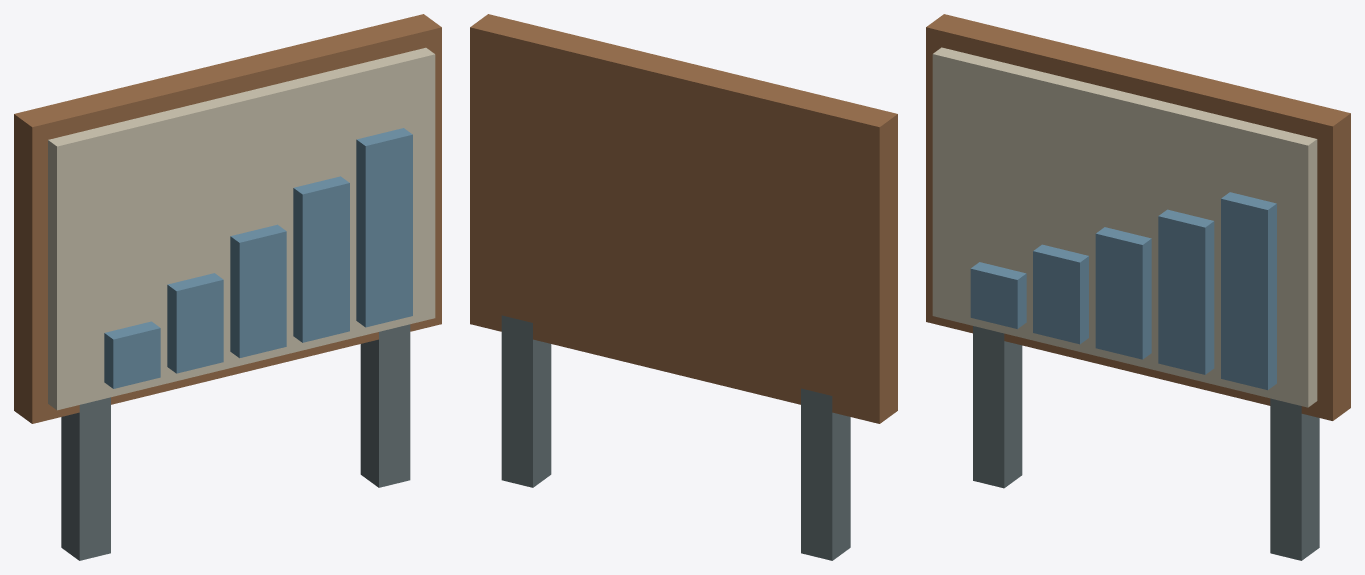
The picture shows the model from 3 angles, left to right: view 1: azimuth 30°, elevation 25°; view 2: azimuth 150°, elevation 25°; view 3: azimuth 330°, elevation 25°; orthographic projection.
Parts seen in each view (by area): view 1: Benchmark chart; view 2: Benchmark chart; view 3: Benchmark chart.
Part boxes in pixels (left/top/right/bottom): Benchmark chart: left=14, top=14, right=441, bottom=560; Benchmark chart: left=470, top=14, right=897, bottom=560; Benchmark chart: left=926, top=14, right=1350, bottom=560.
Size of the model in its own units: 2.08 by 2.16 by 0.32.
